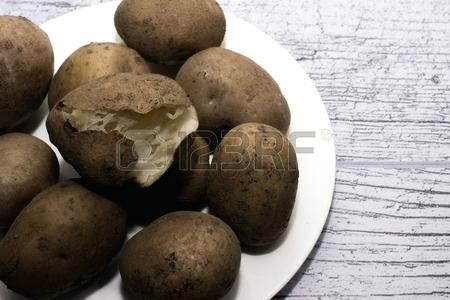boiled potatoes: (1, 1, 289, 288)
